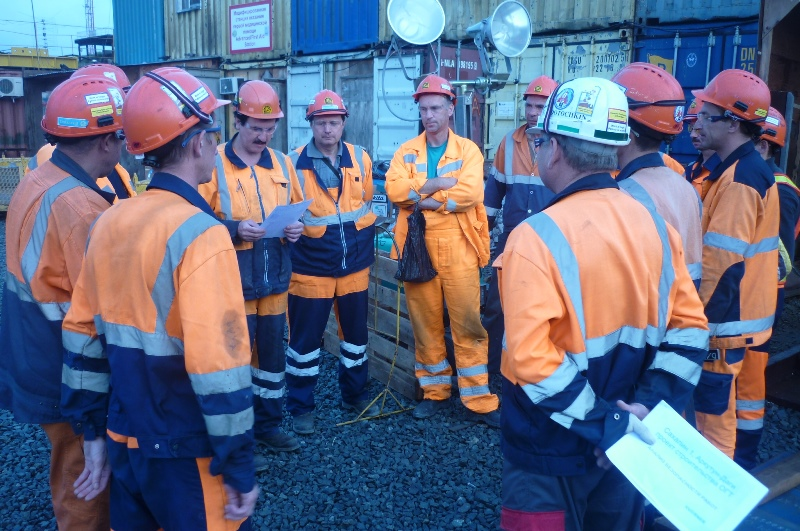epi: (509, 77, 675, 531), (116, 63, 239, 531), (6, 75, 128, 527), (383, 71, 504, 422), (685, 63, 782, 449), (285, 89, 390, 422), (222, 80, 313, 448), (612, 58, 708, 292), (491, 73, 561, 218)
